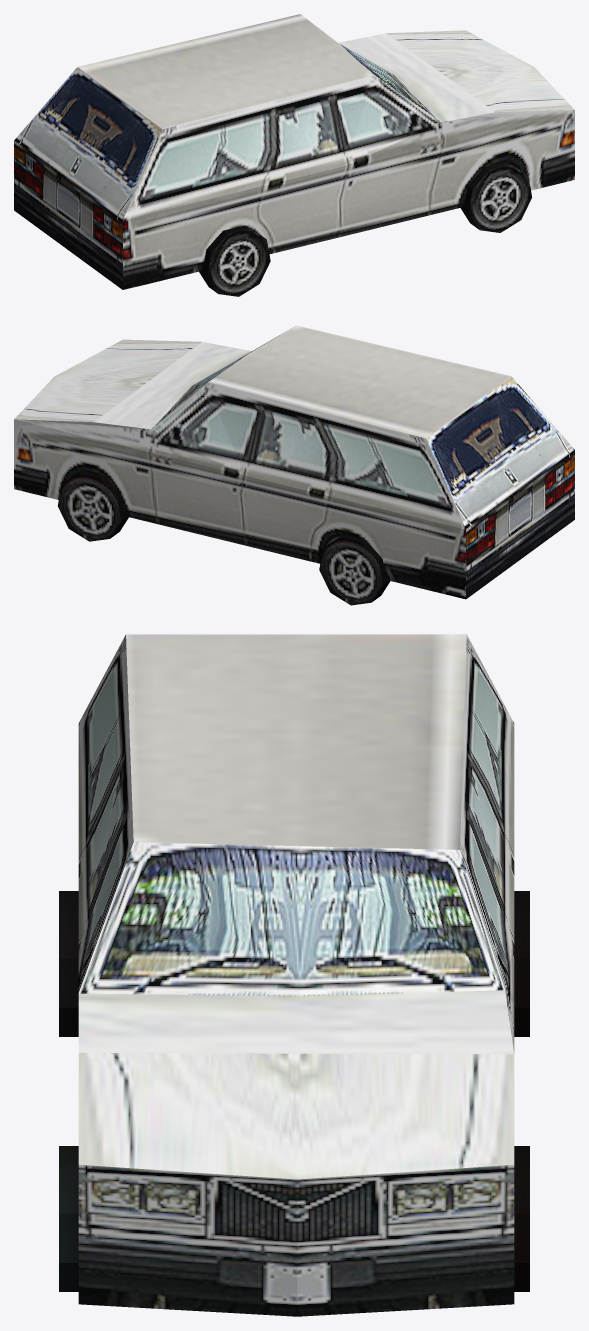
File: Auto8blanco.fbx
3 renders of one model, top to bottom at view 1: azimuth 30°, elevation 25°; view 2: azimuth 150°, elevation 25°; view 3: azimuth 270°, elevation 25°, orthographic. The views are drawn at different scales.
Parts seen in each view (by area): view 1: Car, Wheel2, Wheel1; view 2: Car, Wheel3, Wheel4; view 3: Car, Wheel1, Wheel2, Wheel3, Wheel4.
Boxes of the visible parts, x1=… form: Car: x1=14, y1=14, x2=574, y2=289; Wheel2: x1=199, y1=225, x2=270, y2=296; Wheel1: x1=460, y1=161, x2=531, y2=232; Car: x1=14, y1=325, x2=574, y2=599; Wheel3: x1=319, y1=534, x2=390, y2=605; Wheel4: x1=58, y1=471, x2=128, y2=541; Car: x1=78, y1=634, x2=514, y2=1316; Wheel1: x1=59, y1=1146, x2=78, y2=1291; Wheel2: x1=59, y1=891, x2=78, y2=1036; Wheel3: x1=514, y1=891, x2=529, y2=1036; Wheel4: x1=514, y1=1146, x2=529, y2=1291.
Bounding box in the file's own units: 345 × 121 × 151.
